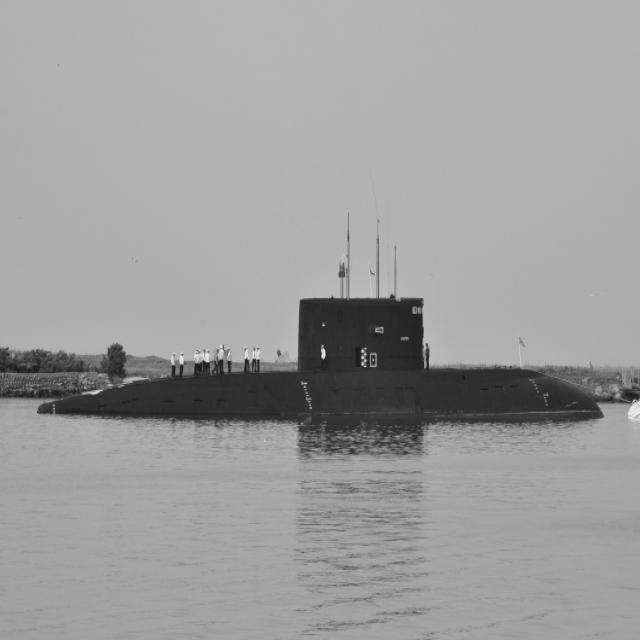submarine: (29, 290, 606, 420)
